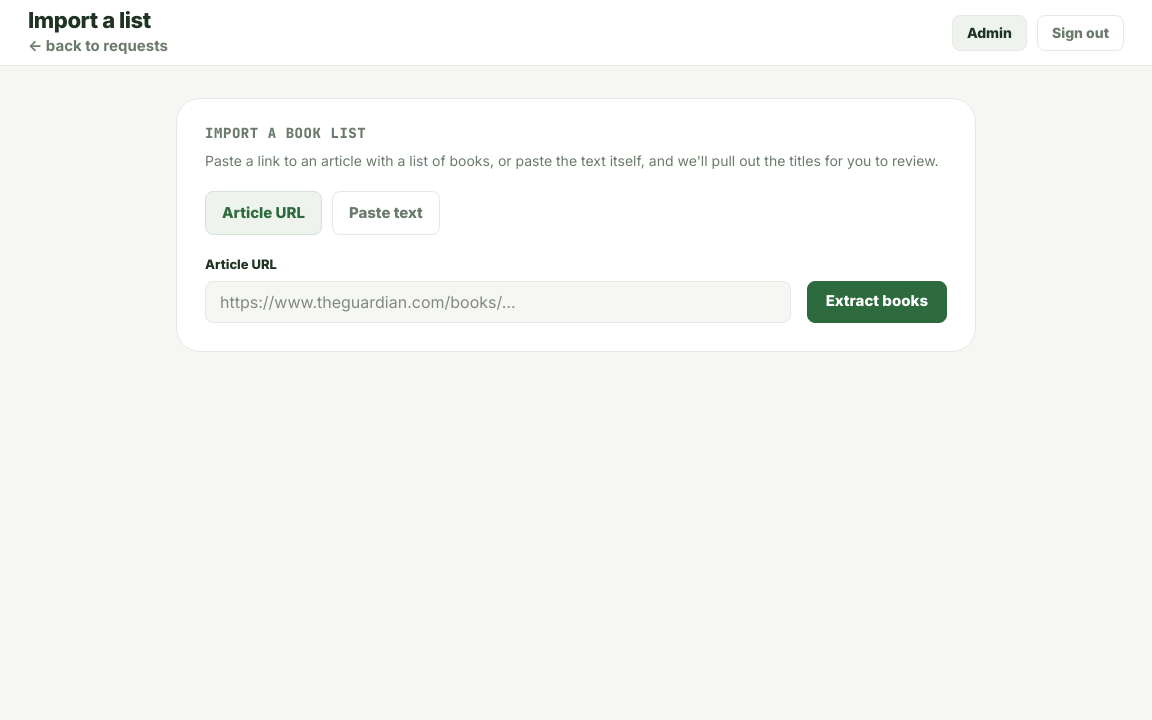
Test case: ImportRoute — input stage › offers the paste tab when the URL fetch fails
This screenshot has width=1152, height=720.
Type "https://example.com/paywall" into the field labelled "Article URL" at (498, 302), box [205,280,791,322]
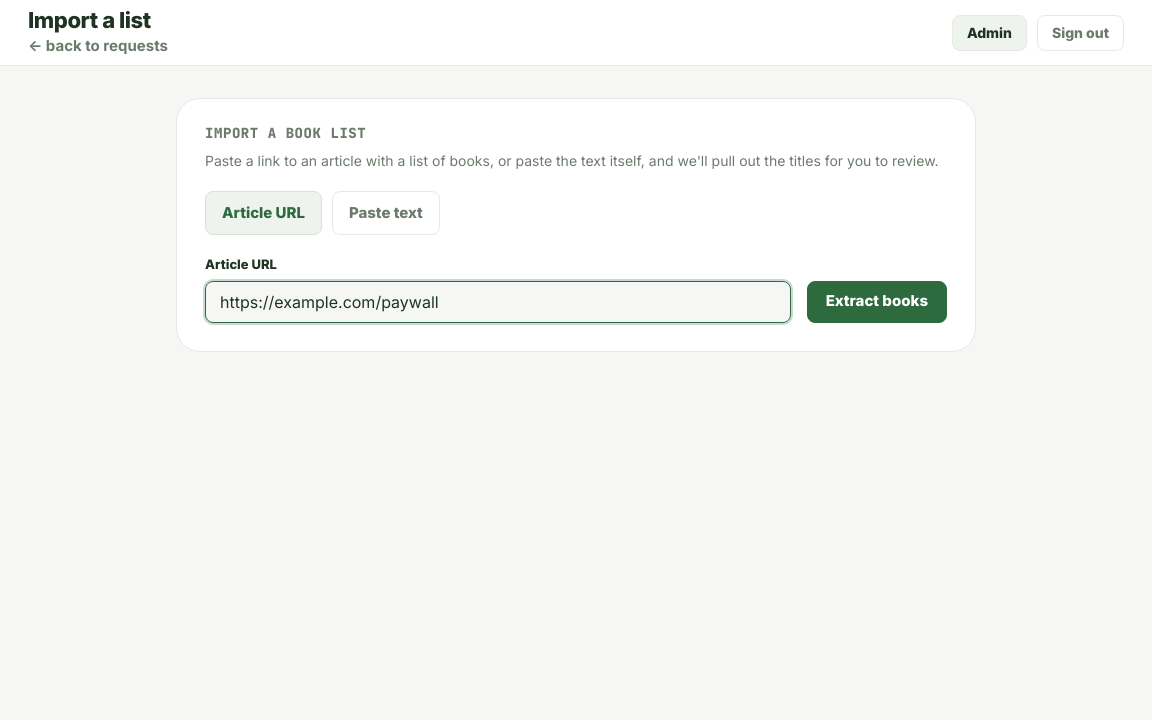
Click the button "Extract books" at (877, 302), box [807,280,947,322]
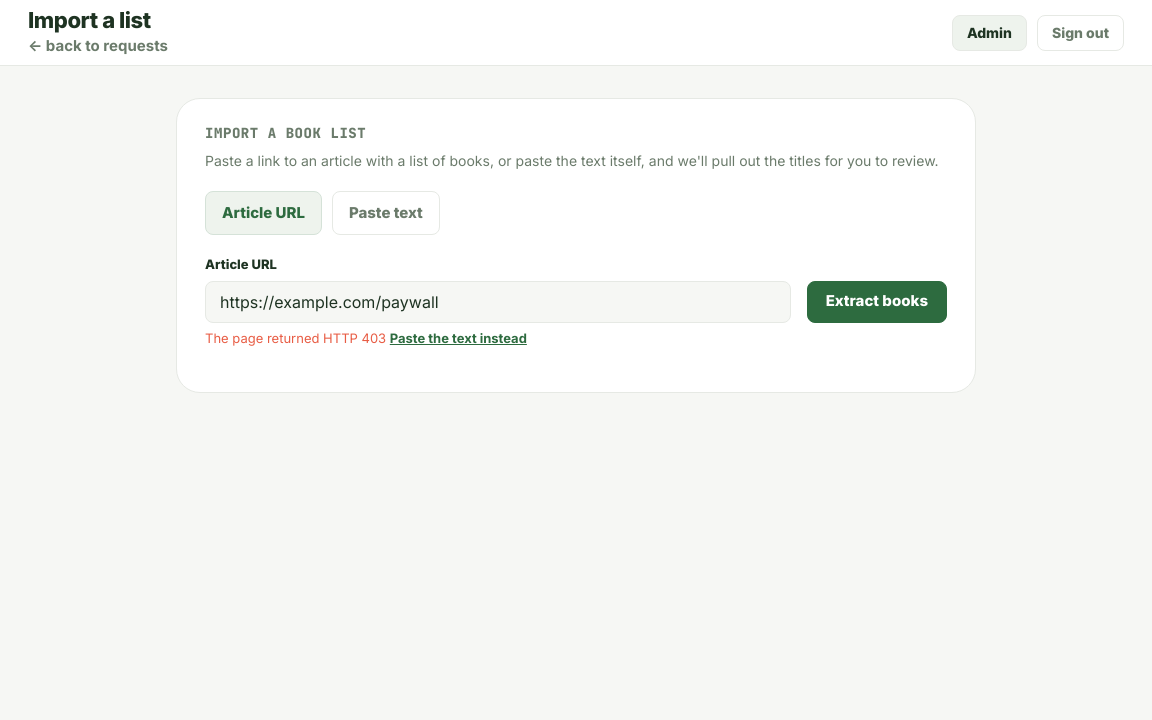
expect the message shows "The page returned HTTP 403": met, box [205,330,386,346]
Click the button "Paste the text instead" at (458, 338), box [390,328,527,348]
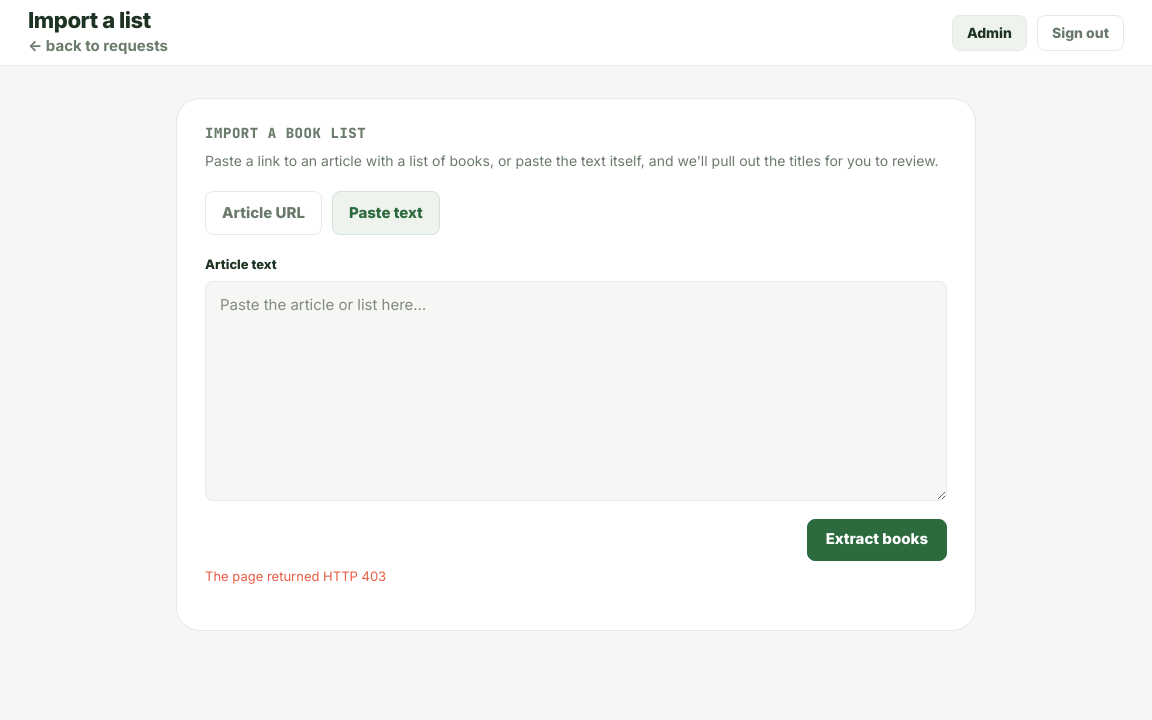
expect the text box labelled "Article text" is shown: met, box [205,280,947,500]
